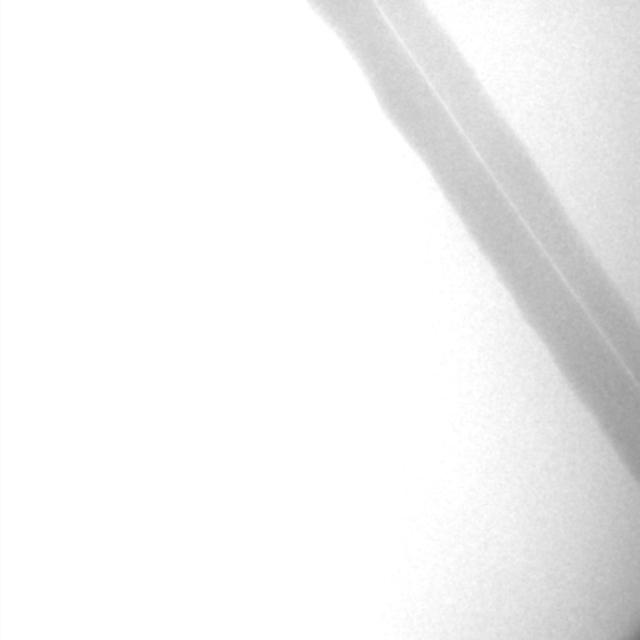broken arc: (377, 4, 635, 381)
